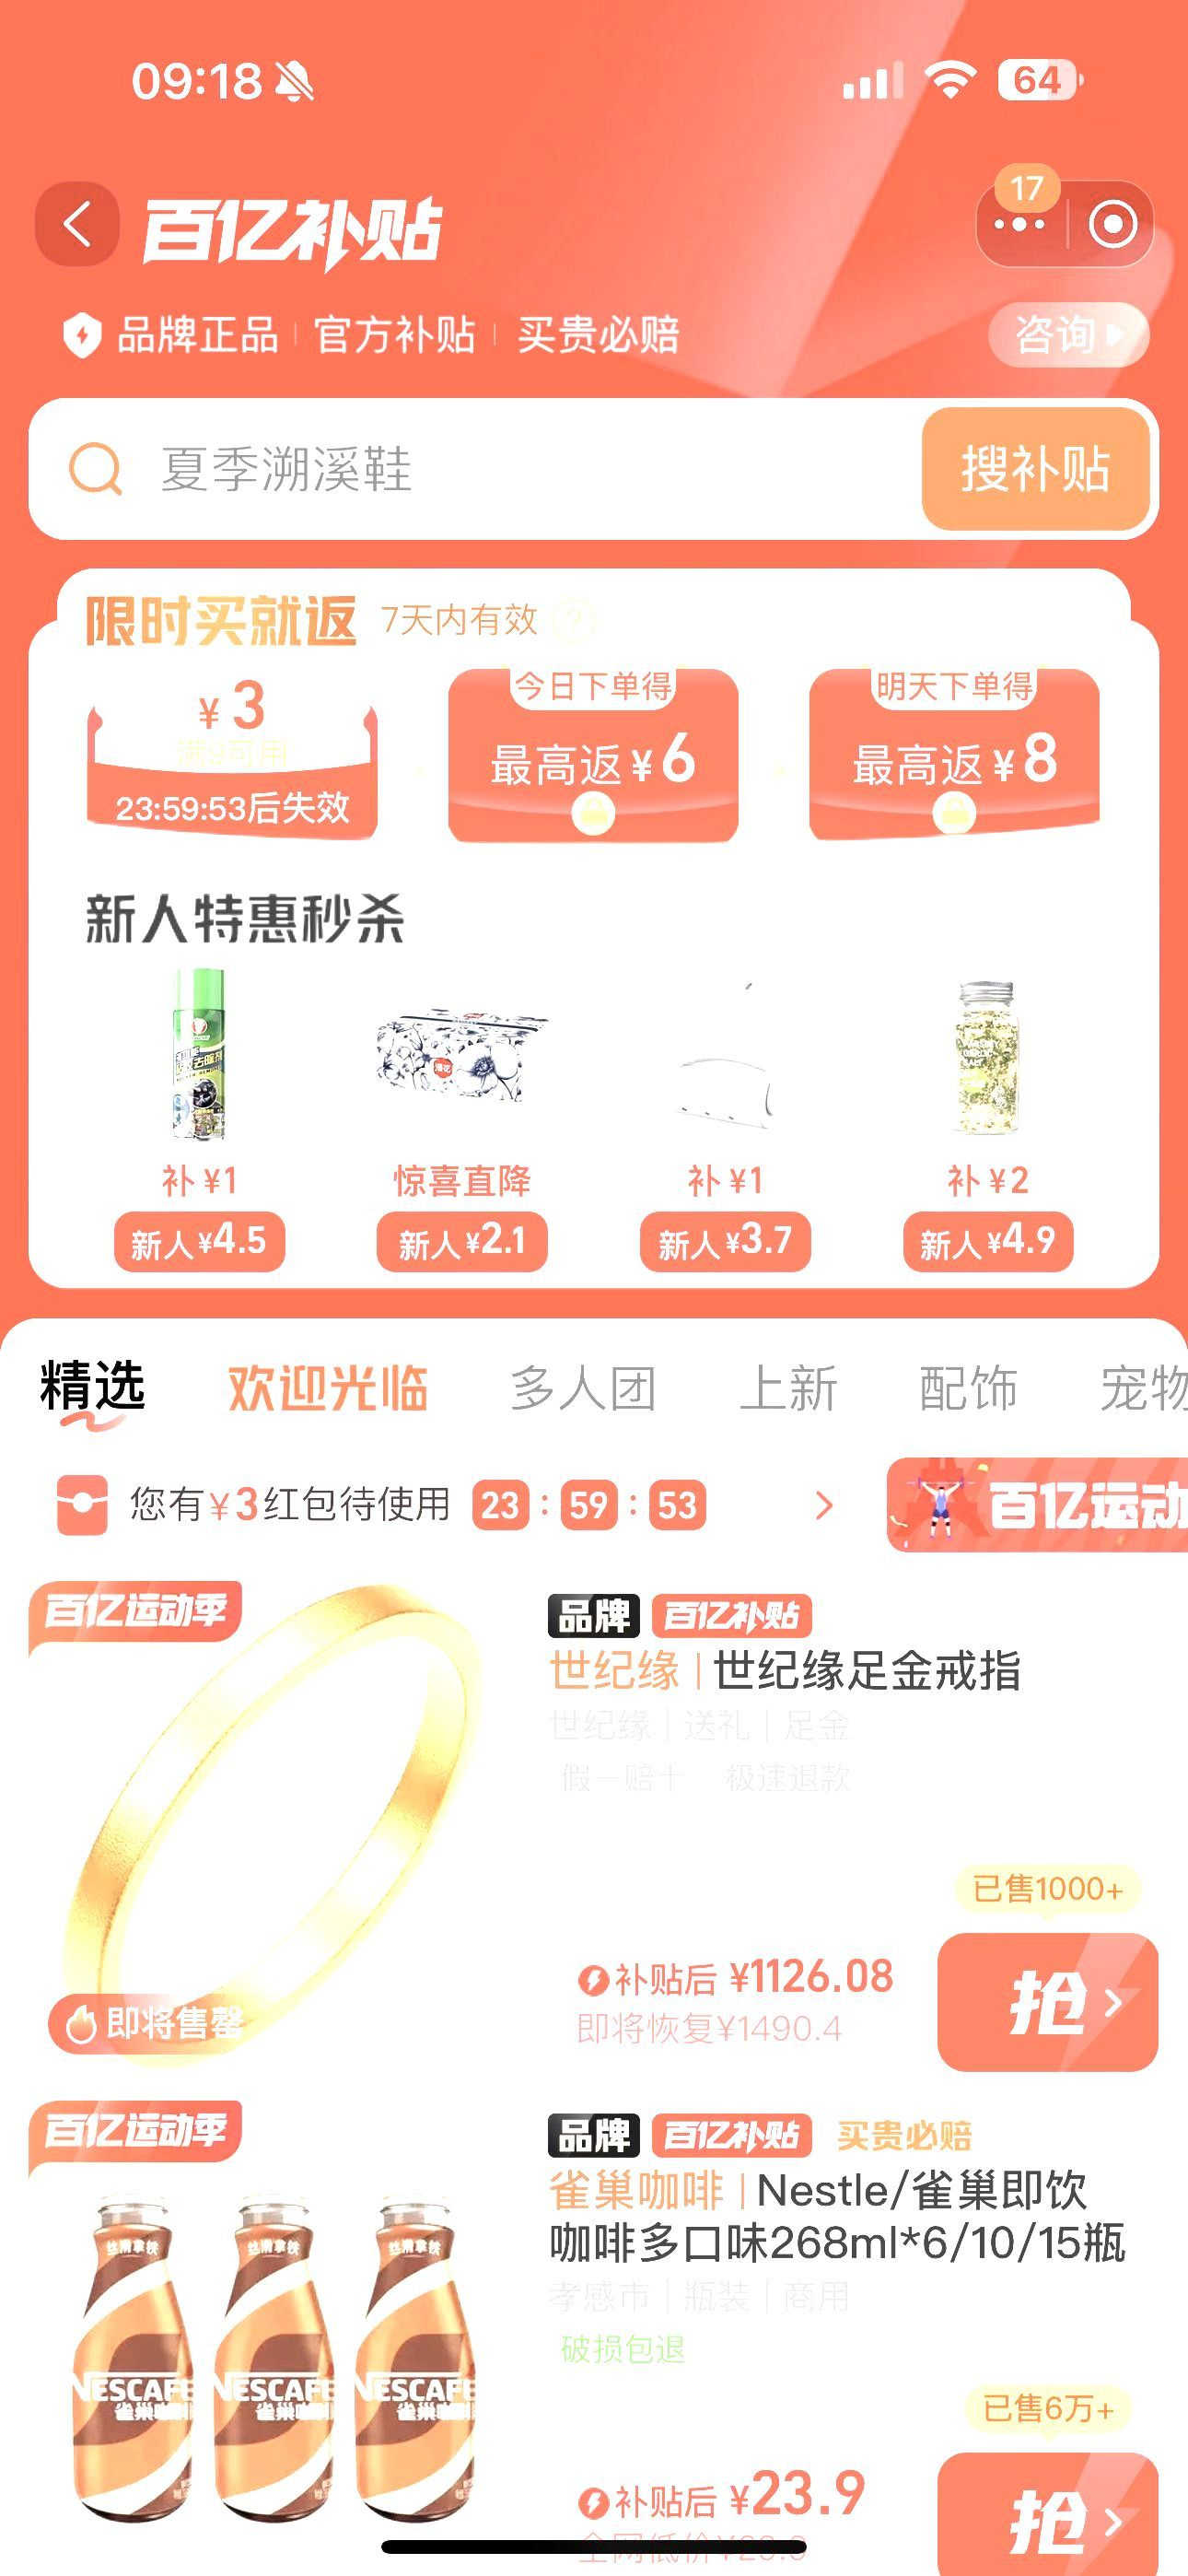item: (8, 1564, 1181, 2095), (5, 2111, 1181, 2574)
op_bar: (8, 143, 1188, 287)
seckill: (5, 559, 1188, 1316)
